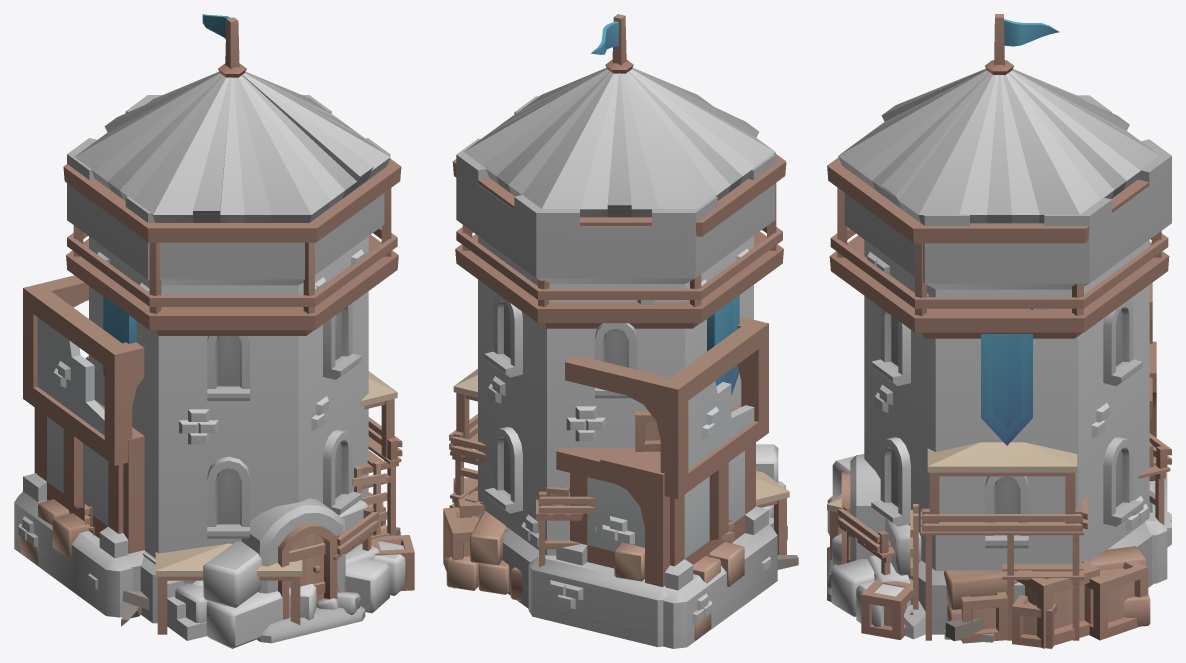
File: landmarks.glb
3 renders of one model, left to right at view 1: azimuth 30°, elevation 25°; view 2: azimuth 150°, elevation 25°; view 3: azimuth 270°, elevation 25°, orthographic. The views are drawn at different scales.
Parts seen in each view (by area): view 1: round_tower, watchtower, build_c, build_b, build_yard, build_a, ruin_house; view 2: round_tower, watchtower, build_c, build_b, build_yard, build_a; view 3: round_tower, watchtower, build_yard, build_b, build_a, build_c, ruin_house.
Part boxes in pixels (<box>): round_tower: <box>67,95,390,643</box>; watchtower: <box>63,14,401,335</box>; build_c: <box>14,275,405,640</box>; build_b: <box>34,400,414,648</box>; build_yard: <box>76,371,402,634</box>; build_a: <box>21,499,385,565</box>; ruin_house: <box>103,525,400,626</box>; round_tower: <box>456,96,775,608</box>; watchtower: <box>452,14,786,328</box>; build_c: <box>443,316,787,648</box>; build_b: <box>446,403,785,647</box>; build_yard: <box>449,369,789,567</box>; build_a: <box>453,477,744,640</box>; round_tower: <box>827,95,1171,634</box>; watchtower: <box>827,14,1169,338</box>; build_yard: <box>827,433,1171,640</box>; build_b: <box>827,341,1171,640</box>; build_a: <box>868,518,1099,648</box>; build_c: <box>832,282,1152,648</box>; ruin_house: <box>904,600,994,642</box>.
Bounding box in the file's own units: 2 × 3.6 × 2.
